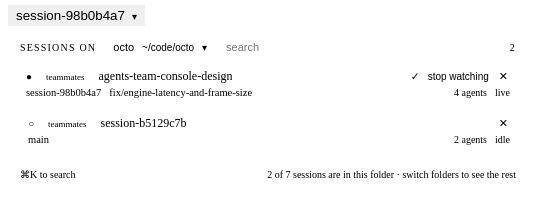
Test: refetches the list scoped to the folder that was picked, and closes the folder menu
What coordinates should you click on to do the following:
click the button with test id "folder-chip"
I would click on:
 (160, 47)
Its box is [105, 39, 215, 55].
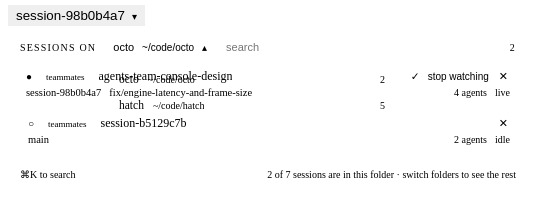
What coordinates should you click on to do the following:
click the option "hatch ~/code/hatch 5"
I would click on:
 (179, 106)
Its box is [119, 99, 385, 111].
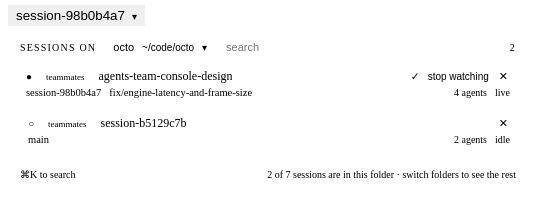
Check: the list with test id "folder-menu" is gone
